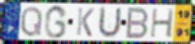B: (124, 6, 150, 40)
G: (43, 4, 68, 40)
H: (149, 7, 176, 38)
K: (75, 7, 96, 39)
Q: (19, 5, 44, 38)
U: (96, 6, 123, 39)
